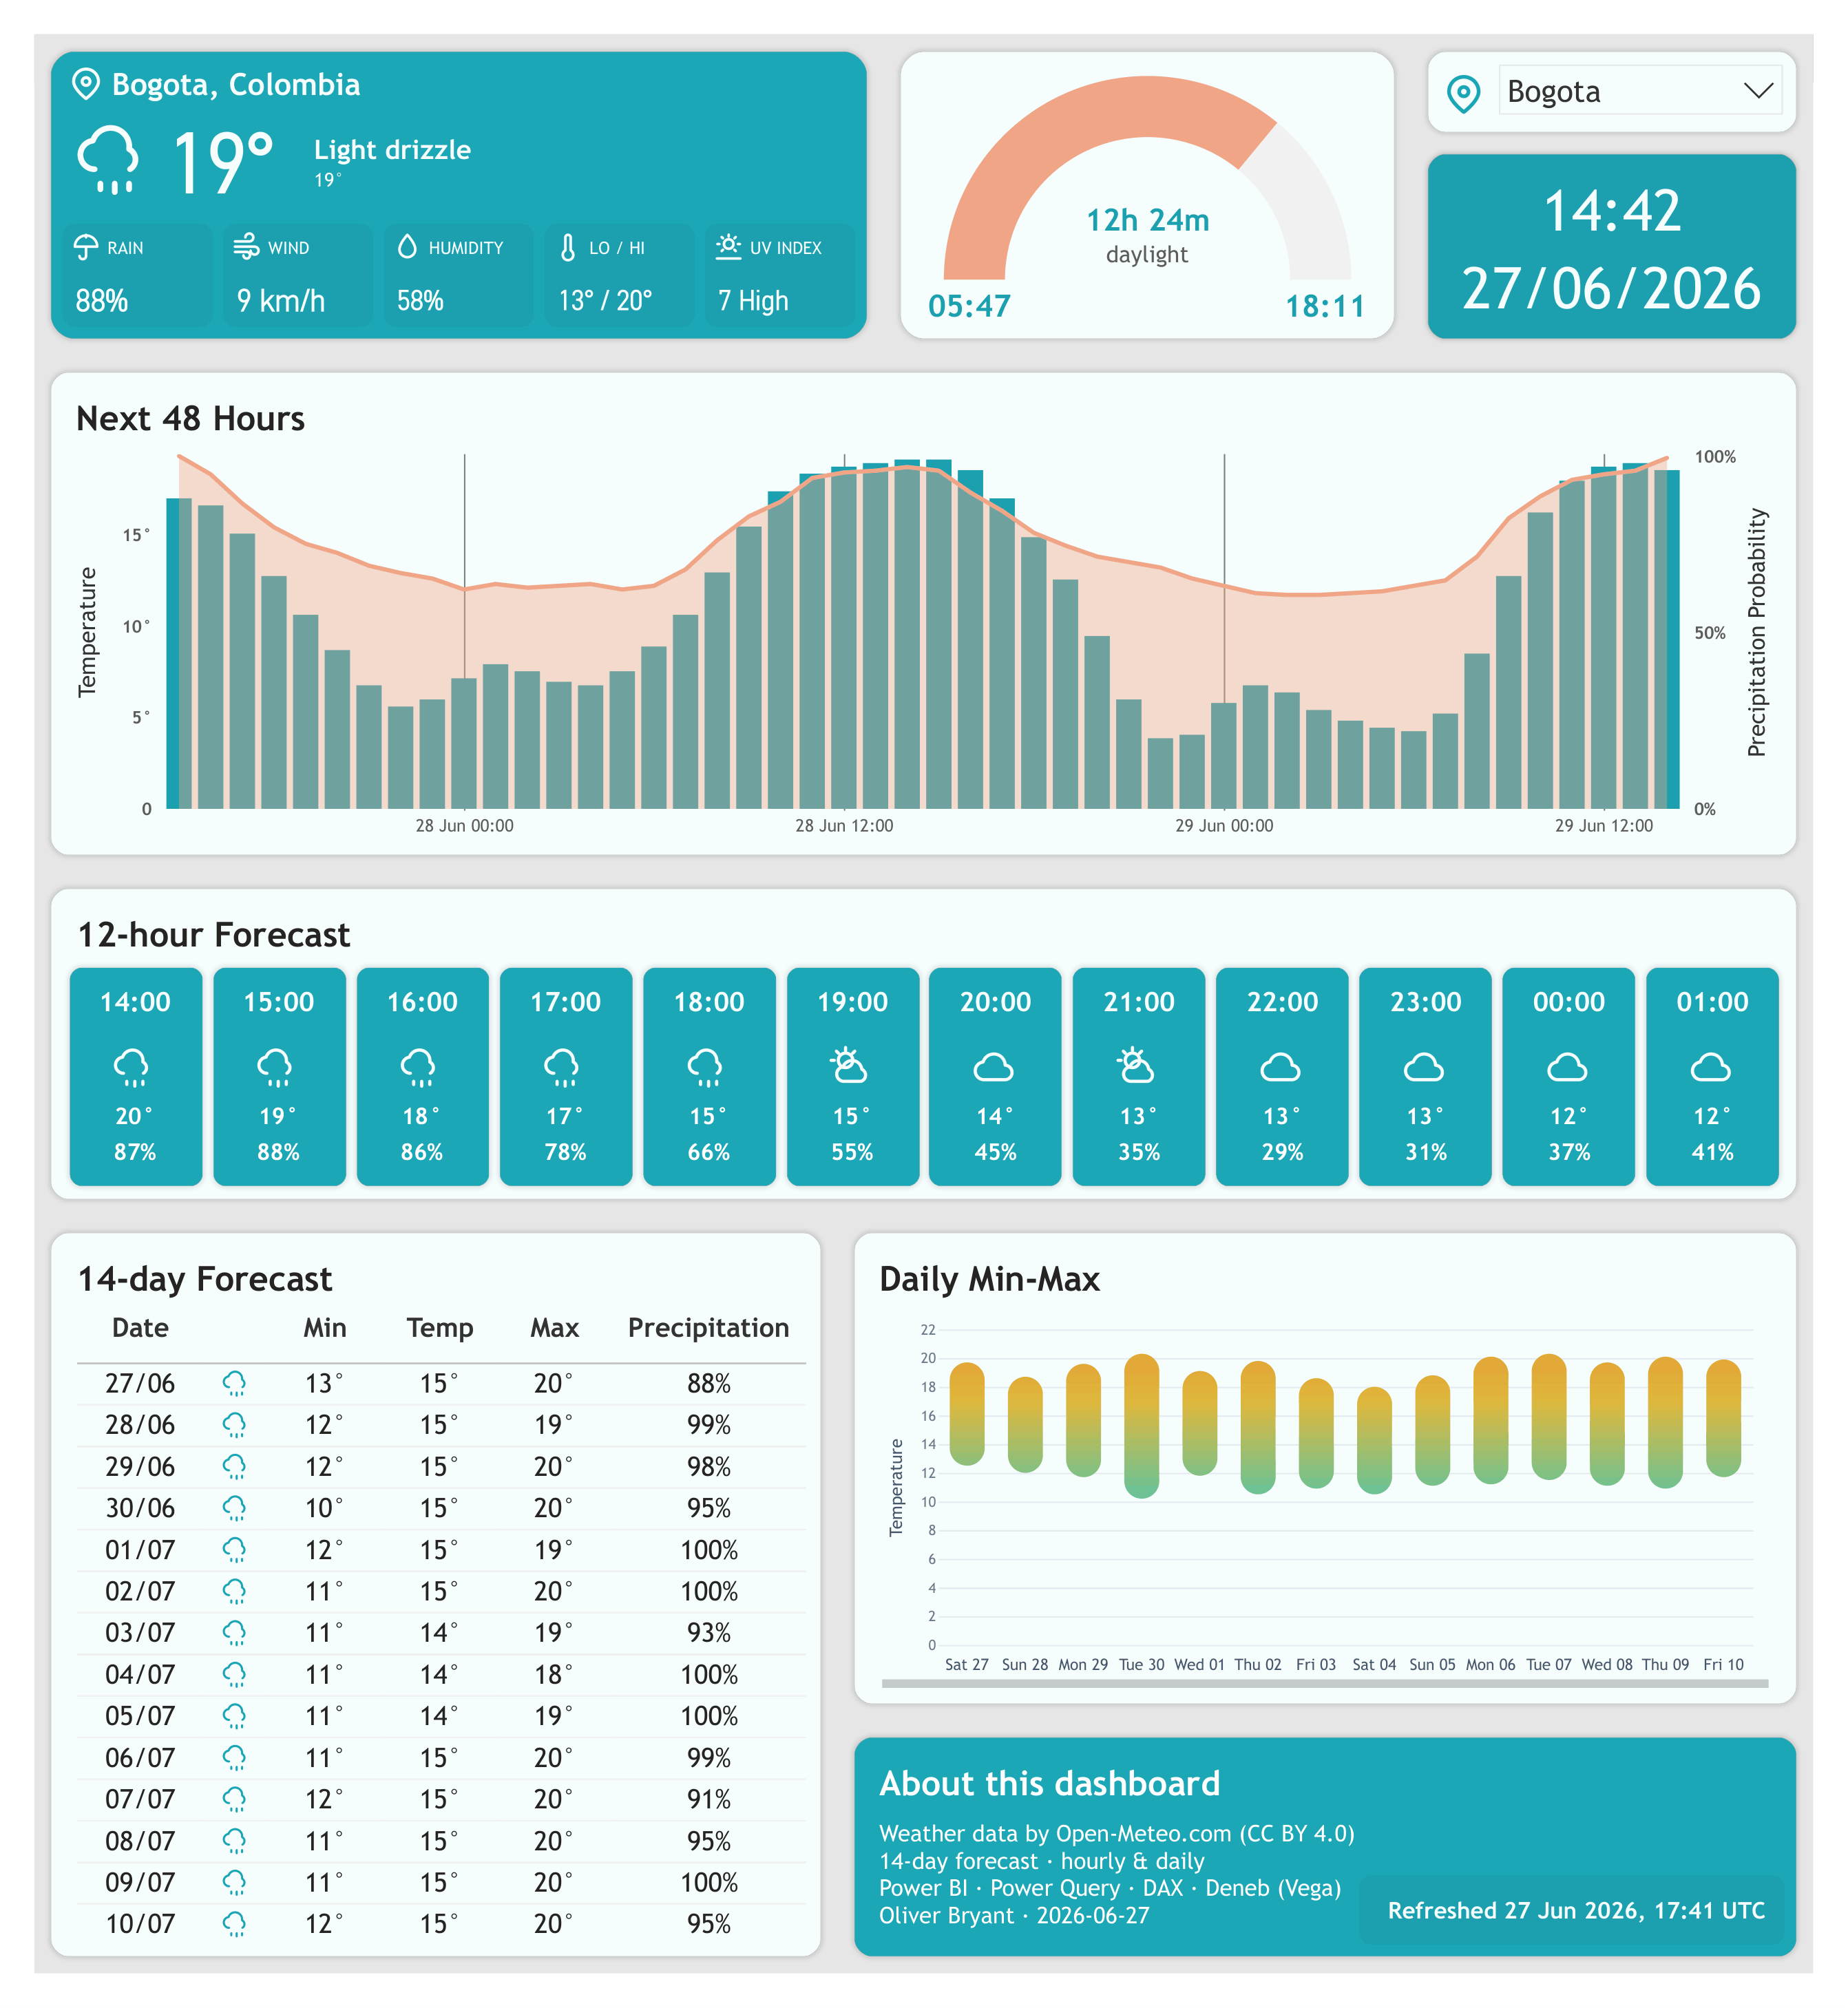

The dashboard page shown, as its layout file describes it:
{"tool":"powerbi","page":{"name":"Weather","canvas":[1240,1352],"ordinal":0},"visuals":[{"type":"shape","box":[8,592,1224,224],"z":0},{"type":"shape","box":[421.5,646.9,100,160],"z":1000},{"type":"shape","box":[221.5,646.9,100,160],"z":2000},{"type":"shape","box":[619.8,646.9,100,160],"z":3000},{"type":"shape","box":[321.5,646.9,100,160],"z":4000},{"type":"shape","box":[1119.8,646.9,100,160],"z":5000},{"type":"shape","box":[8,8,576,208],"z":6000},{"type":"shape","box":[16,128,112,80],"z":7000},{"type":"shape","box":[600,8,352,208],"z":8000},{"type":"shape","box":[240,128,112,80],"z":9000},{"type":"shape","box":[128,128,112,80],"z":10000},{"type":"shape","box":[968,80,264,136],"z":11000},{"type":"shape","box":[352,128,112,80],"z":12000},{"type":"shape","box":[8,232,1224,344],"z":13000},{"type":"image","box":[24,56,64,64],"z":14000},{"type":"image","box":[22.6,21.3,26.4,26.7],"z":15000},{"type":"image","box":[24,136,24,24],"z":16000},{"type":"image","box":[136,136,24,24],"z":17000},{"type":"image","box":[248,136,24,24],"z":18000},{"type":"image","box":[360,136,24,24],"z":19000},{"type":"shape","box":[968,8,264,64],"z":20000},{"type":"shape","box":[819.8,647.5,100,160],"z":21000},{"type":"shape","box":[21,647,100,160],"z":22000},{"type":"shape","box":[121.3,647.3,100,160],"z":23000},{"type":"shape","box":[521.5,646.9,100,160],"z":24000},{"type":"shape","box":[719.8,646.9,100,160],"z":25000},{"type":"shape","box":[568,1184,664,160],"z":26000},{"type":"shape","box":[919.8,646.9,100,160],"z":27000},{"type":"shape","box":[1019.8,646.9,100,160],"z":28000},{"type":"shape","box":[920,1280,304,56],"z":29000},{"type":"shape","box":[568,832,664,336],"z":30000},{"type":"cardVisual","fields":{"Data":["CityInfo._CityRegion_Selected"]},"box":[49,12.6,384.1,40],"z":31000},{"type":"cardVisual","fields":{"Data":["WeatherCurrent._Current_Time","WeatherCurrent._Current_Date"]},"box":[976,88,248,120],"z":32000},{"type":"cardVisual","fields":{"Data":["WeatherCurrent._Current_Temperature"]},"box":[88,56,88,64],"z":33000},{"type":"cardVisual","fields":{"Data":["WeatherCurrent._Current_PrecipitationProbability_Max"]},"box":[24,168,96,32],"z":34000},{"type":"cardVisual","fields":{"Data":["WeatherCurrent._Current_Humidity"]},"box":[248,168,96,32],"z":35000},{"type":"cardVisual","fields":{"Data":["WeatherCurrent._Current_WindSpeed"]},"box":[136,168,96,32],"z":36000},{"type":"cardVisual","fields":{"Data":["WeatherCurrent._Current_Temperature_MinMax_Text"]},"box":[360,168,96,32],"z":37000},{"type":"cardVisual","fields":{"Data":["Icons._Text_Rain"]},"box":[40,128,80,40],"z":38000},{"type":"cardVisual","fields":{"Data":["Icons._Text_Wind"]},"box":[152,128,80,40],"z":39000},{"type":"cardVisual","fields":{"Data":["Icons._Text_Humidity"]},"box":[264,128,80,40],"z":40000},{"type":"cardVisual","fields":{"Data":["Icons._Text_LoHi"]},"box":[376,128,80,40],"z":41000},{"type":"slicer","fields":{"Values":["CityInfo.city"]},"box":[1016,16,208,40],"z":42000},{"type":"cardVisual","fields":{"Data":["WeatherCurrent._Current_Temperature_Apparent"]},"box":[184,80,272,40],"z":43000},{"type":"cardVisual","fields":{"Data":["CityInfo._Current_Description"]},"box":[184,56,272,48],"z":44000},{"type":"lineStackedColumnComboChart","title":"Next 48 Hours","fields":{"Y2":["WeatherHourly._Hourly_Temperature"],"Y":["WeatherHourly._Hourly_PrecipitationProbability_Max"],"Category":["WeatherHourly.hourly.time"]},"box":[24,280,1192,288],"z":45000},{"type":"image","box":[980.6,25.6,31.7,32.2],"z":46000},{"type":"shape","box":[8,832,544,512],"z":47000},{"type":"tableEx","title":"14-day Forecast","fields":{"Values":["WeatherDaily.daily.dateshort","WeatherDaily.daily.date","Icons._Icon_Daily_Dark","WeatherDaily._Daily_Temperature_Min","WeatherDaily._Daily_Temperature","WeatherDaily._Daily_Temperature_Max","WeatherDaily._Daily_PrecipitationProbability_Max"]},"box":[24,888,520,448],"z":48000},{"type":"pivotTable","title":"12-hour Forecast","fields":{"Values":["Icons._Icon_Hourly_Light","WeatherHourly._Hourly_Temperature","WeatherHourly._Hourly_PrecipitationProbability_Max"],"Columns":["WeatherHourly.hourly.datetimeshort"]},"box":[15,655,1212,152],"z":49000},{"type":"textbox","box":[24,608,256,40],"z":50000},{"type":"textbox","box":[24,248,256,40],"z":51000},{"type":"textbox","box":[24,848,256,40],"z":52000},{"type":"textbox","box":[584,848,256,40],"z":53000},{"type":"deneb7E15AEF80B9E4D4F8E12924291ECE89A","fields":{"dataset":["WeatherDaily.daily.date","WeatherDaily._Daily_Temperature_Min","WeatherDaily._Daily_Temperature_Max"]},"box":[584,888,632,272],"z":54000},{"type":"gauge","fields":{"MaxValue":["WeatherDaily._Today_Sunset_Formatted"],"MinValue":["WeatherDaily._Today_Sunrise_Formatted"],"Y":["WeatherCurrent._Current_Time_Formatted"]},"box":[608,24,336,152],"z":55000},{"type":"cardVisual","fields":{"Data":["WeatherDaily._Today_Sunrise"]},"box":[616,168,72,40],"z":56000},{"type":"cardVisual","fields":{"Data":["WeatherDaily._Today_Sunset"]},"box":[864,168,72,40],"z":57000},{"type":"cardVisual","title":"daylight","fields":{"Data":["WeatherCurrent._Daylight_Hours"]},"box":[696,112,160,56],"z":58000},{"type":"shape","box":[464,128,112,80],"z":59000},{"type":"image","box":[472,136,24,24],"z":60000},{"type":"cardVisual","fields":{"Data":["CityInfo._Daily_UV_Category"]},"box":[472,160,104,48],"z":61000},{"type":"cardVisual","fields":{"Data":["Icons._Text_Visibility"]},"box":[488,128,80,40],"z":62000},{"type":"textbox","box":[584,1200,256,40],"z":63000},{"type":"textbox","box":[584,1240,632,88],"z":64000},{"type":"cardVisual","fields":{"Data":["CityInfo._Last_Refresh"]},"box":[928,1288,288,40],"z":65000}]}

Visuals, with their boxes on the page's 1240x1352 design canvas (x1, y1, x2, y2). These are canvas units, not pixel positions in the 1848x2008 screenshot, which may show the page scaled, cropped or inside an application window:
shape: <bbox>8, 592, 1232, 816</bbox>
shape: <bbox>422, 647, 522, 807</bbox>
shape: <bbox>222, 647, 322, 807</bbox>
shape: <bbox>620, 647, 720, 807</bbox>
shape: <bbox>322, 647, 422, 807</bbox>
shape: <bbox>1120, 647, 1220, 807</bbox>
shape: <bbox>8, 8, 584, 216</bbox>
shape: <bbox>16, 128, 128, 208</bbox>
shape: <bbox>600, 8, 952, 216</bbox>
shape: <bbox>240, 128, 352, 208</bbox>
shape: <bbox>128, 128, 240, 208</bbox>
shape: <bbox>968, 80, 1232, 216</bbox>
shape: <bbox>352, 128, 464, 208</bbox>
shape: <bbox>8, 232, 1232, 576</bbox>
image: <bbox>24, 56, 88, 120</bbox>
image: <bbox>23, 21, 49, 48</bbox>
image: <bbox>24, 136, 48, 160</bbox>
image: <bbox>136, 136, 160, 160</bbox>
image: <bbox>248, 136, 272, 160</bbox>
image: <bbox>360, 136, 384, 160</bbox>
shape: <bbox>968, 8, 1232, 72</bbox>
shape: <bbox>820, 648, 920, 808</bbox>
shape: <bbox>21, 647, 121, 807</bbox>
shape: <bbox>121, 647, 221, 807</bbox>
shape: <bbox>522, 647, 622, 807</bbox>
shape: <bbox>720, 647, 820, 807</bbox>
shape: <bbox>568, 1184, 1232, 1344</bbox>
shape: <bbox>920, 647, 1020, 807</bbox>
shape: <bbox>1020, 647, 1120, 807</bbox>
shape: <bbox>920, 1280, 1224, 1336</bbox>
shape: <bbox>568, 832, 1232, 1168</bbox>
cardVisual - CityInfo._CityRegion_Selected: <bbox>49, 13, 433, 53</bbox>
cardVisual - WeatherCurrent._Current_Time x WeatherCurrent._Current_Date: <bbox>976, 88, 1224, 208</bbox>
cardVisual - WeatherCurrent._Current_Temperature: <bbox>88, 56, 176, 120</bbox>
cardVisual - WeatherCurrent._Current_PrecipitationProbability_Max: <bbox>24, 168, 120, 200</bbox>
cardVisual - WeatherCurrent._Current_Humidity: <bbox>248, 168, 344, 200</bbox>
cardVisual - WeatherCurrent._Current_WindSpeed: <bbox>136, 168, 232, 200</bbox>
cardVisual - WeatherCurrent._Current_Temperature_MinMax_Text: <bbox>360, 168, 456, 200</bbox>
cardVisual - Icons._Text_Rain: <bbox>40, 128, 120, 168</bbox>
cardVisual - Icons._Text_Wind: <bbox>152, 128, 232, 168</bbox>
cardVisual - Icons._Text_Humidity: <bbox>264, 128, 344, 168</bbox>
cardVisual - Icons._Text_LoHi: <bbox>376, 128, 456, 168</bbox>
slicer - CityInfo.city: <bbox>1016, 16, 1224, 56</bbox>
cardVisual - WeatherCurrent._Current_Temperature_Apparent: <bbox>184, 80, 456, 120</bbox>
cardVisual - CityInfo._Current_Description: <bbox>184, 56, 456, 104</bbox>
"Next 48 Hours" lineStackedColumnComboChart: <bbox>24, 280, 1216, 568</bbox>
image: <bbox>981, 26, 1012, 58</bbox>
shape: <bbox>8, 832, 552, 1344</bbox>
"14-day Forecast" tableEx: <bbox>24, 888, 544, 1336</bbox>
"12-hour Forecast" pivotTable: <bbox>15, 655, 1227, 807</bbox>
textbox: <bbox>24, 608, 280, 648</bbox>
textbox: <bbox>24, 248, 280, 288</bbox>
textbox: <bbox>24, 848, 280, 888</bbox>
textbox: <bbox>584, 848, 840, 888</bbox>
deneb7E15AEF80B9E4D4F8E12924291ECE89A - WeatherDaily.daily.date x WeatherDaily._Daily_Temperature_Min: <bbox>584, 888, 1216, 1160</bbox>
gauge - WeatherDaily._Today_Sunset_Formatted x WeatherDaily._Today_Sunrise_Formatted: <bbox>608, 24, 944, 176</bbox>
cardVisual - WeatherDaily._Today_Sunrise: <bbox>616, 168, 688, 208</bbox>
cardVisual - WeatherDaily._Today_Sunset: <bbox>864, 168, 936, 208</bbox>
"daylight" cardVisual: <bbox>696, 112, 856, 168</bbox>
shape: <bbox>464, 128, 576, 208</bbox>
image: <bbox>472, 136, 496, 160</bbox>
cardVisual - CityInfo._Daily_UV_Category: <bbox>472, 160, 576, 208</bbox>
cardVisual - Icons._Text_Visibility: <bbox>488, 128, 568, 168</bbox>
textbox: <bbox>584, 1200, 840, 1240</bbox>
textbox: <bbox>584, 1240, 1216, 1328</bbox>
cardVisual - CityInfo._Last_Refresh: <bbox>928, 1288, 1216, 1328</bbox>
